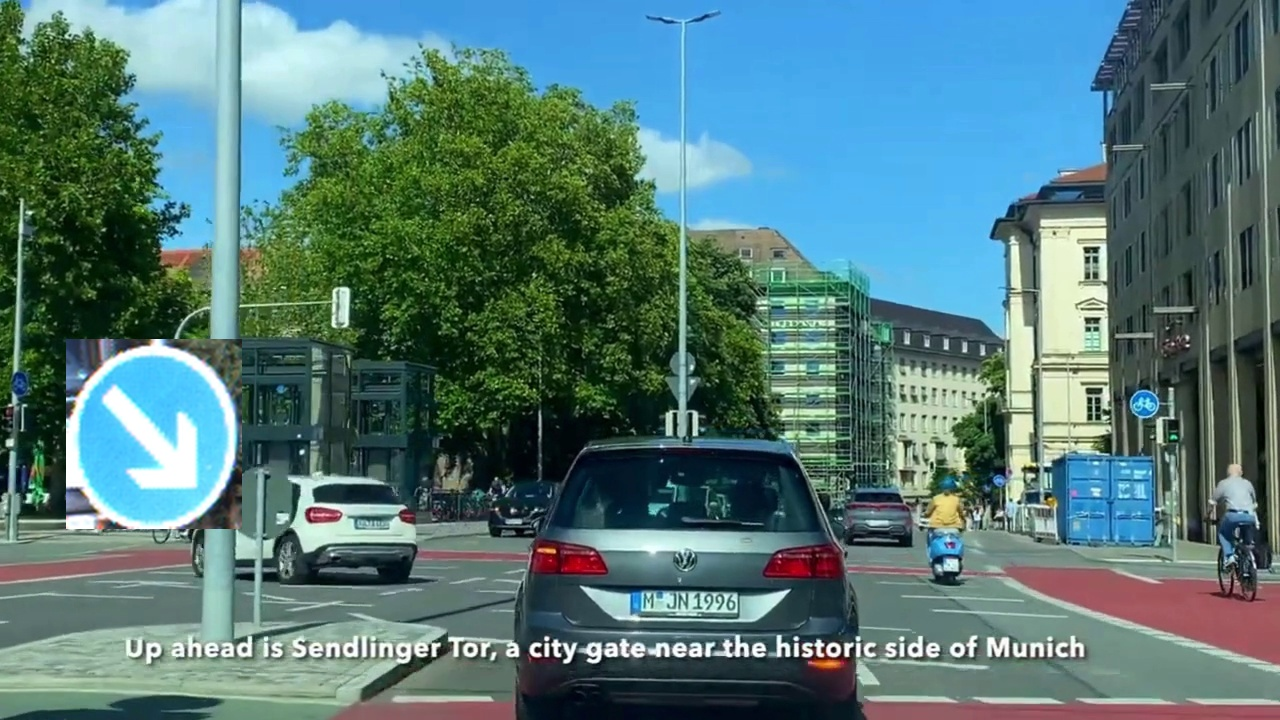Keep right: (66, 339, 242, 529)
